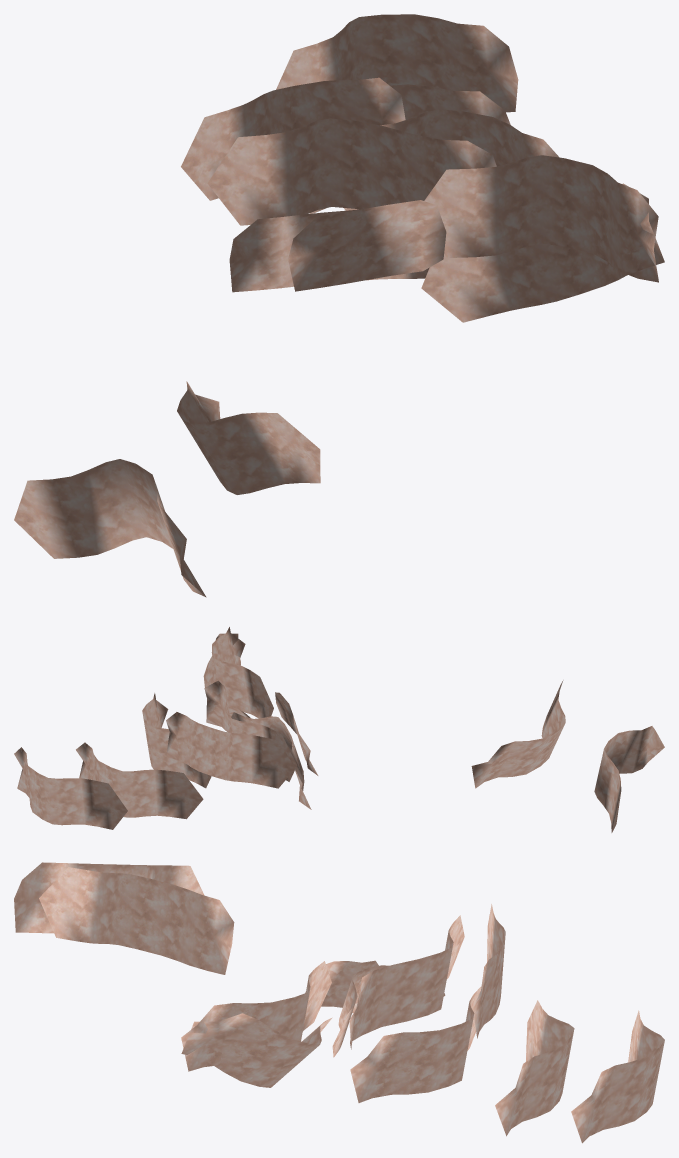
File: stg210_MotCloud_18.obj
3 views of the same model, one above another, from view 1: azimuth 30°, elevation 25°; view 2: azimuth 150°, elevation 25°; view 3: azimuth 270°, elevation 25° (orthographic). The views are drawn at different scales.
Parts seen in each view (by area): view 1: polygon2, polygon0, polygon10, polygon6, polygon9, polygon8, polygon7, polygon5, polygon1, polygon3, polygon4; view 2: polygon7, polygon10, polygon4, polygon6, polygon5, polygon0, polygon3, polygon2, polygon1, polygon8, polygon9; view 3: polygon5, polygon3, polygon2, polygon9, polygon10, polygon4, polygon0, polygon6, polygon7, polygon8, polygon1.
Part boxes in pixels (x1=…): polygon2: x1=207, y1=118, x2=496, y2=225; polygon0: x1=424, y1=155, x2=658, y2=282; polygon10: x1=276, y1=14, x2=518, y2=112; polygon6: x1=14, y1=459, x2=206, y2=597; polygon9: x1=421, y1=183, x2=664, y2=322; polygon8: x1=288, y1=200, x2=446, y2=291; polygon7: x1=181, y1=77, x2=405, y2=200; polygon5: x1=177, y1=381, x2=320, y2=494; polygon1: x1=229, y1=209, x2=429, y2=292; polygon3: x1=344, y1=109, x2=559, y2=210; polygon4: x1=309, y1=84, x2=510, y2=213; polygon7: x1=166, y1=712, x2=295, y2=788; polygon10: x1=14, y1=747, x2=127, y2=829; polygon4: x1=76, y1=742, x2=203, y2=819; polygon6: x1=594, y1=726, x2=664, y2=832; polygon5: x1=471, y1=680, x2=565, y2=788; polygon0: x1=211, y1=627, x2=273, y2=718; polygon3: x1=142, y1=693, x2=211, y2=788; polygon2: x1=204, y1=680, x2=297, y2=781; polygon1: x1=231, y1=712, x2=311, y2=809; polygon8: x1=275, y1=692, x2=318, y2=775; polygon9: x1=203, y1=633, x2=250, y2=717; polygon5: x1=39, y1=867, x2=234, y2=974; polygon3: x1=350, y1=986, x2=481, y2=1102; polygon2: x1=349, y1=915, x2=464, y2=1049; polygon9: x1=181, y1=1013, x2=332, y2=1087; polygon10: x1=571, y1=1010, x2=664, y2=1143; polygon4: x1=495, y1=1000, x2=574, y2=1136; polygon0: x1=181, y1=961, x2=331, y2=1071; polygon6: x1=14, y1=862, x2=204, y2=933; polygon7: x1=472, y1=904, x2=505, y2=1038; polygon8: x1=305, y1=960, x2=378, y2=1007; polygon1: x1=332, y1=965, x2=445, y2=1057.
Size of the model in its own units: 4508 by 1244 by 4377.
Materials: 1 (1 with a texture image).
